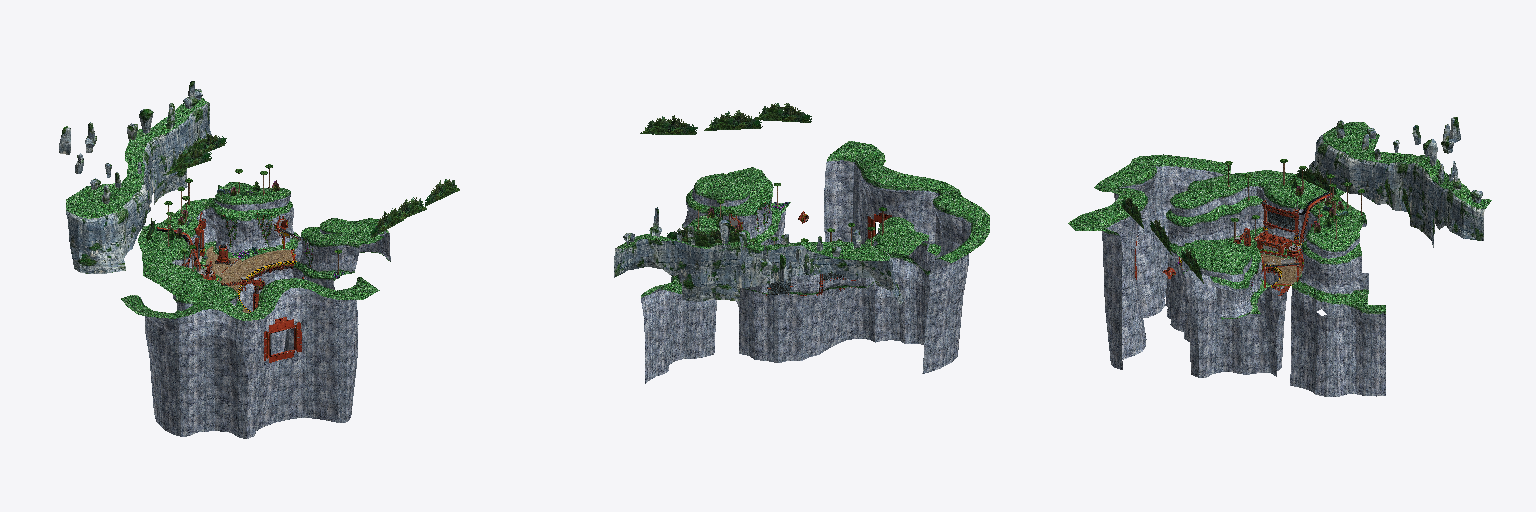
The picture shows the model from 3 angles: view 1: azimuth 30°, elevation 25°; view 2: azimuth 150°, elevation 25°; view 3: azimuth 270°, elevation 25°; orthographic projection.
Visible parts, largest first — view 1: polygon13, polygon0, polygon3, polygon1, polygon14, polygon2, polygon10, polygon9, polygon4, polygon116, polygon115, polygon11 (+2 smaller); view 2: polygon0, polygon13, polygon2, polygon12, polygon14, polygon10, polygon3, polygon116, polygon1, polygon4, polygon9, polygon15 (+2 smaller); view 3: polygon2, polygon13, polygon0, polygon9, polygon3, polygon4, polygon14, polygon1, polygon10, polygon116, polygon12, polygon15 (+1 smaller).
Boxes of the visible parts, box(x1,y1,x2,y2) form: polygon13: box(145, 288, 358, 438); polygon0: box(59, 81, 211, 273); polygon3: box(138, 182, 299, 312); polygon1: box(66, 97, 206, 218); polygon14: box(121, 277, 379, 320); polygon2: box(175, 196, 301, 310); polygon10: box(294, 218, 386, 279); polygon9: box(284, 230, 390, 351); polygon4: box(171, 193, 300, 311); polygon116: box(370, 179, 459, 237); polygon115: box(166, 134, 226, 174); polygon11: box(293, 228, 390, 281); polygon0: box(614, 207, 904, 304); polygon13: box(824, 162, 970, 373); polygon2: box(641, 233, 940, 383); polygon12: box(736, 278, 874, 362); polygon14: box(828, 141, 989, 262); polygon10: box(686, 167, 790, 241); polygon3: box(643, 215, 940, 294); polygon116: box(640, 103, 811, 134); polygon1: box(617, 234, 889, 260); polygon4: box(641, 230, 940, 299); polygon9: box(684, 188, 785, 245); polygon15: box(826, 157, 972, 259); polygon2: box(1164, 188, 1385, 396); polygon13: box(1102, 167, 1222, 369); polygon0: box(1309, 117, 1484, 247); polygon9: box(1182, 258, 1279, 377); polygon3: box(1166, 170, 1385, 310); polygon4: box(1165, 184, 1385, 315); polygon14: box(1068, 154, 1231, 232); polygon1: box(1323, 122, 1491, 208); polygon10: box(1177, 239, 1270, 313); polygon116: box(1122, 198, 1203, 283); polygon12: box(1184, 271, 1286, 370); polygon15: box(1101, 163, 1230, 236).
Bounding box in the file's own units: 3503 × 2130 × 3857.
65 materials, 56 textured.